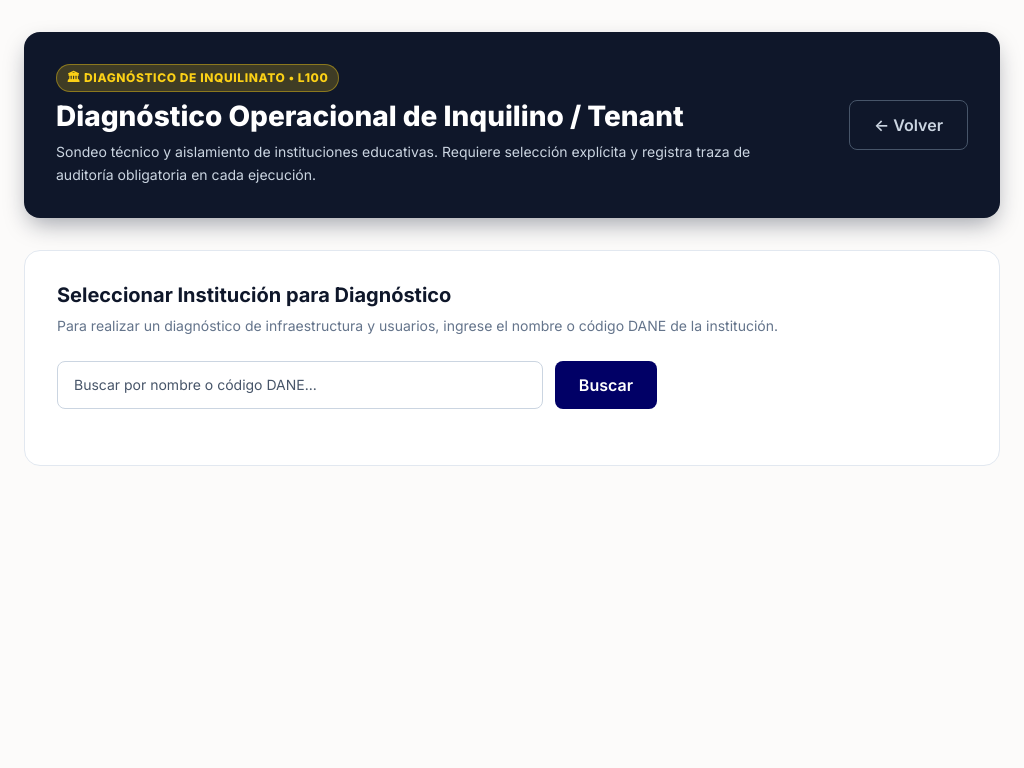
Test case: NTA-10-R8: Tenant Diagnostics DANE & Name Search Verification › 1. Matching DANE code returns and renders the expected institution
In the field labelled "Buscar por nombre o código DANE...": [300, 385] box [57,361,543,409], type "111111111111"
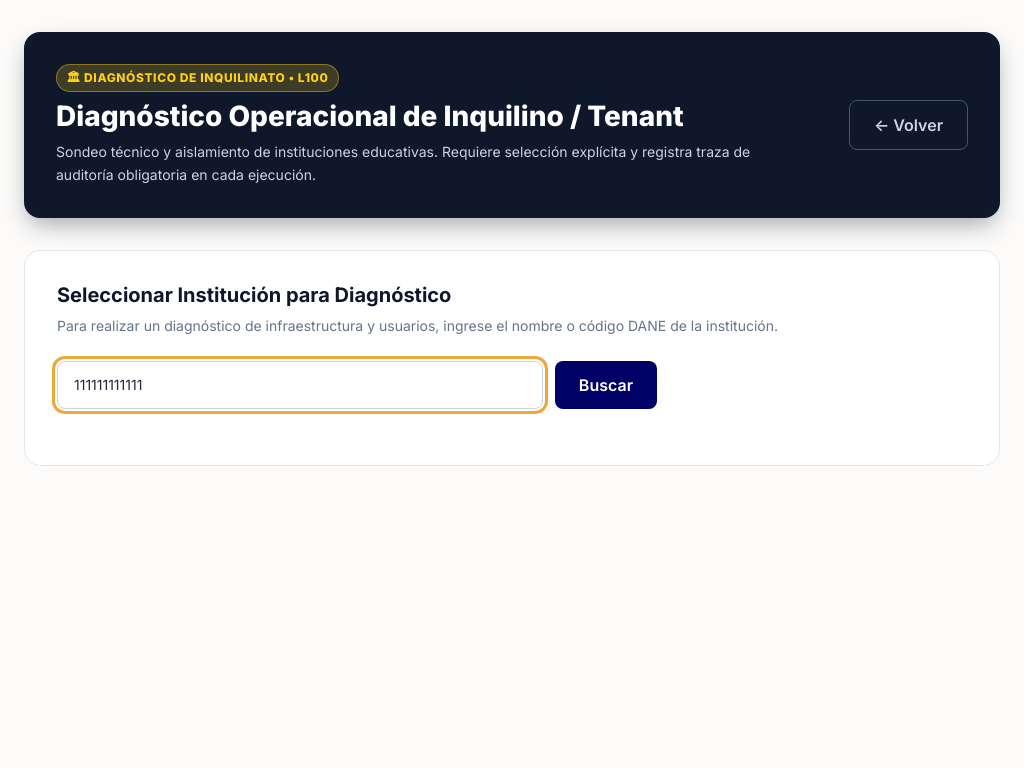
Click the button "Buscar": [606, 385] box [555,361,657,409]
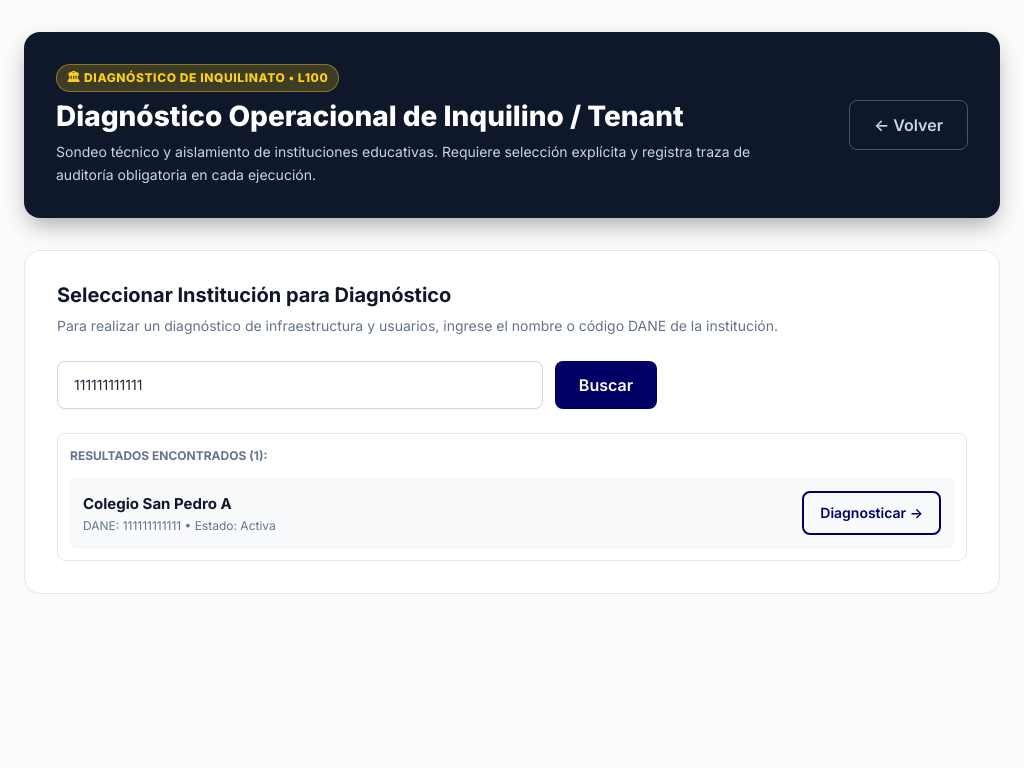
Check: the text "Colegio San Pedro A" is shown, box [83,494,232,512]
Check: the text "DANE: 111111111111 • Estado: Activa" is shown, box [83,516,276,535]
Check: the button "Diagnosticar →" is shown, box [802,491,941,535]
